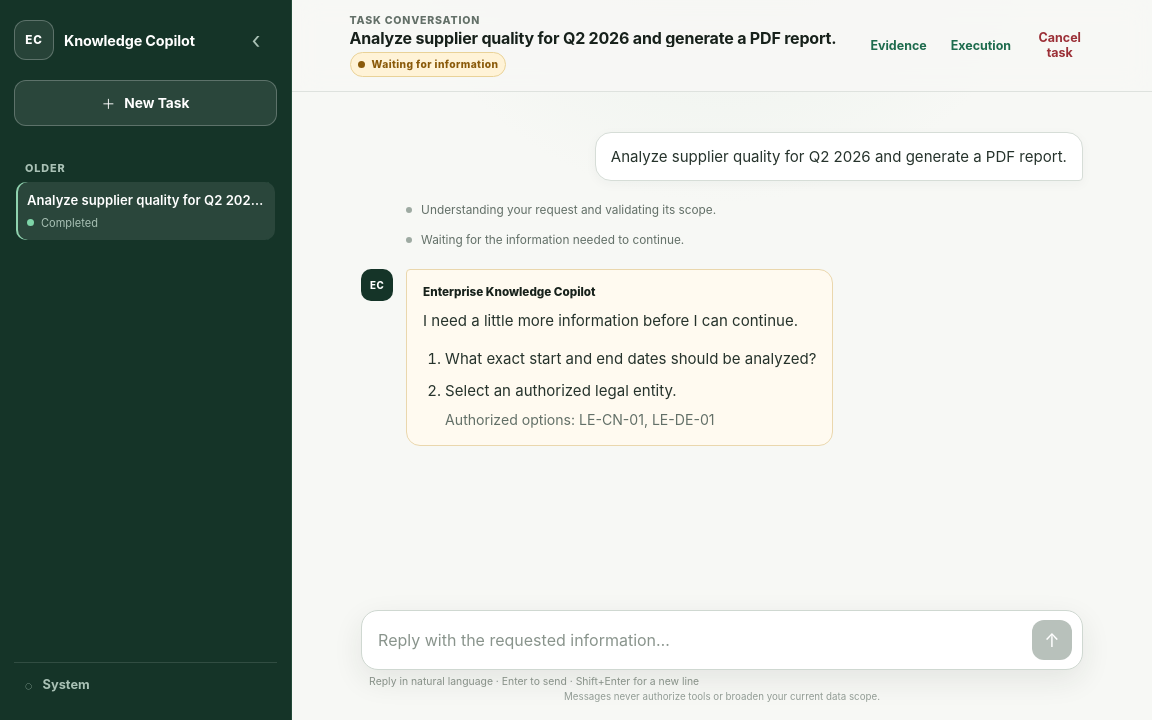
Test: Chat-first Task Workspace › keeps an unauthorized natural clarification in the composer on denial
Type "Actually use LE-DE-01." into the text box named "Message the Enterprise Knowledge Copilot" at (700, 640), box [378, 621, 1022, 660]
Then press Enter
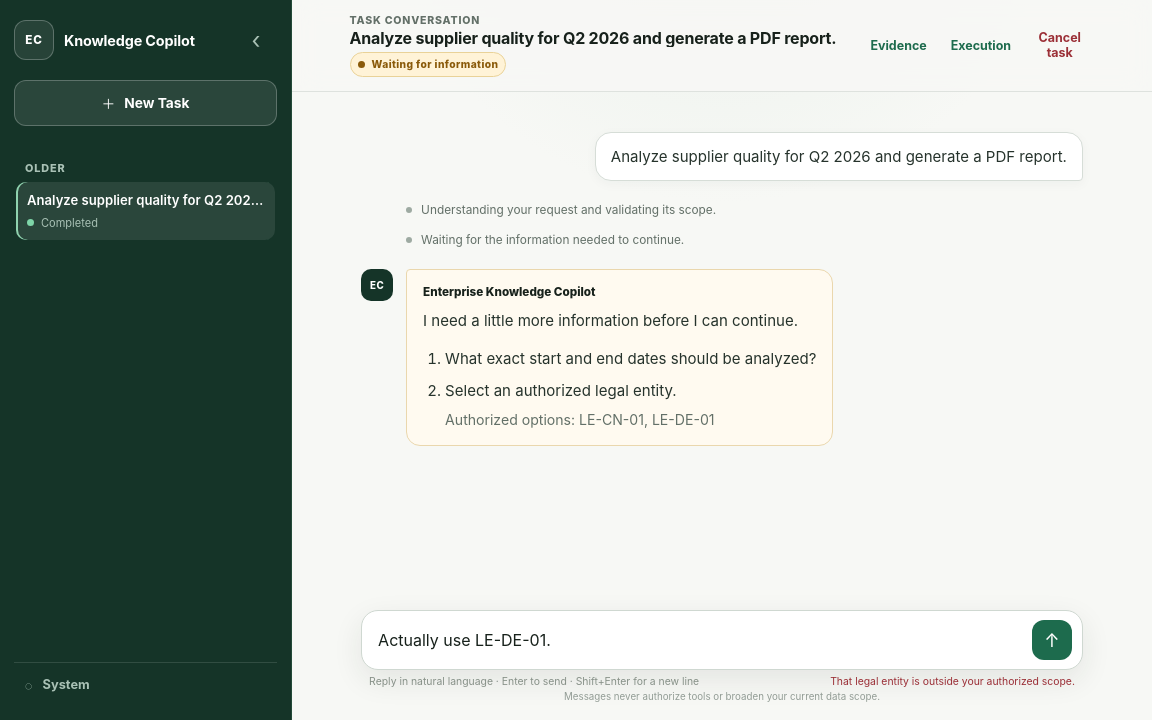
Expected: the text "That legal entity is outside your authorized scope." is shown, [830, 675, 1075, 689]
